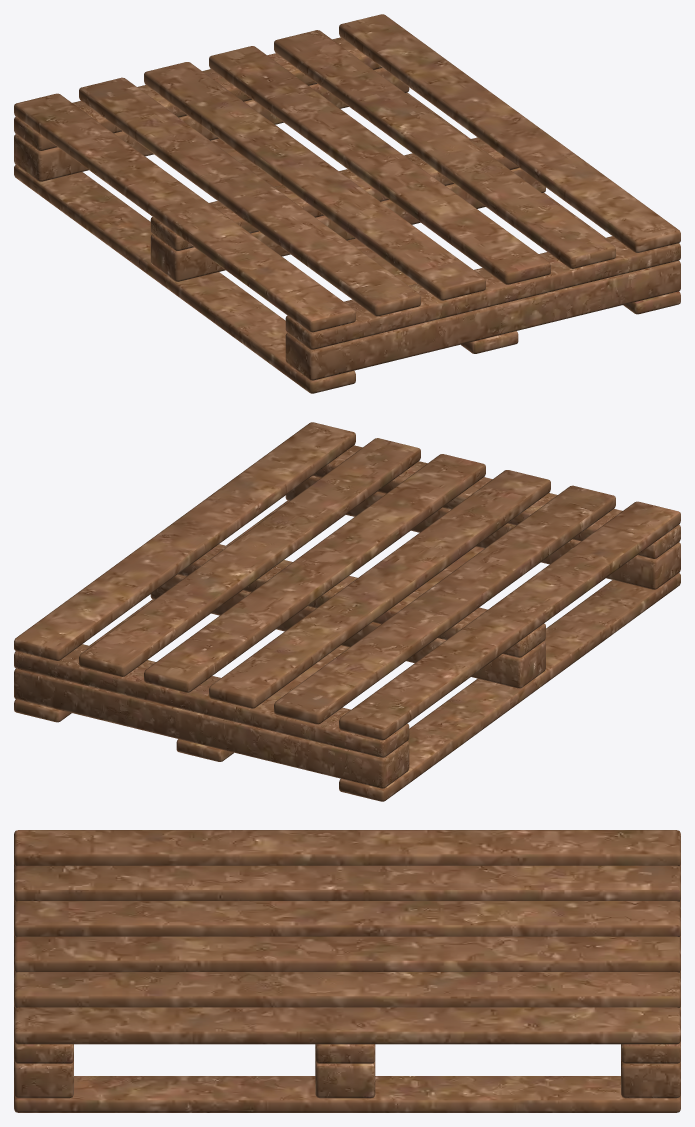
File: pallet.glb
3 renders of one model, top to bottom at view 1: azimuth 30°, elevation 25°; view 2: azimuth 150°, elevation 25°; view 3: azimuth 270°, elevation 25°, orthographic. The views are drawn at different scales.
Parts seen in each view (by area): view 1: Cube003, Cube001, Cube, Cube002; view 2: Cube003, Cube001, Cube, Cube002; view 3: Cube003, Cube, Cube001, Cube002.
Part boxes in pixels (box(x1,y1,x2,y2)): Cube003: box(14, 14, 680, 332); Cube001: box(14, 68, 680, 380); Cube: box(14, 92, 680, 393); Cube002: box(14, 37, 680, 349); Cube003: box(14, 422, 680, 740); Cube001: box(14, 476, 680, 788); Cube: box(14, 500, 680, 801); Cube002: box(14, 445, 680, 757); Cube003: box(14, 830, 680, 1044); Cube: box(14, 1076, 680, 1112); Cube001: box(14, 1060, 680, 1098); Cube002: box(14, 864, 680, 1063).
Size of the model in its own units: 0.9878 by 0.1893 by 1.37.
4 materials, 4 textured.
